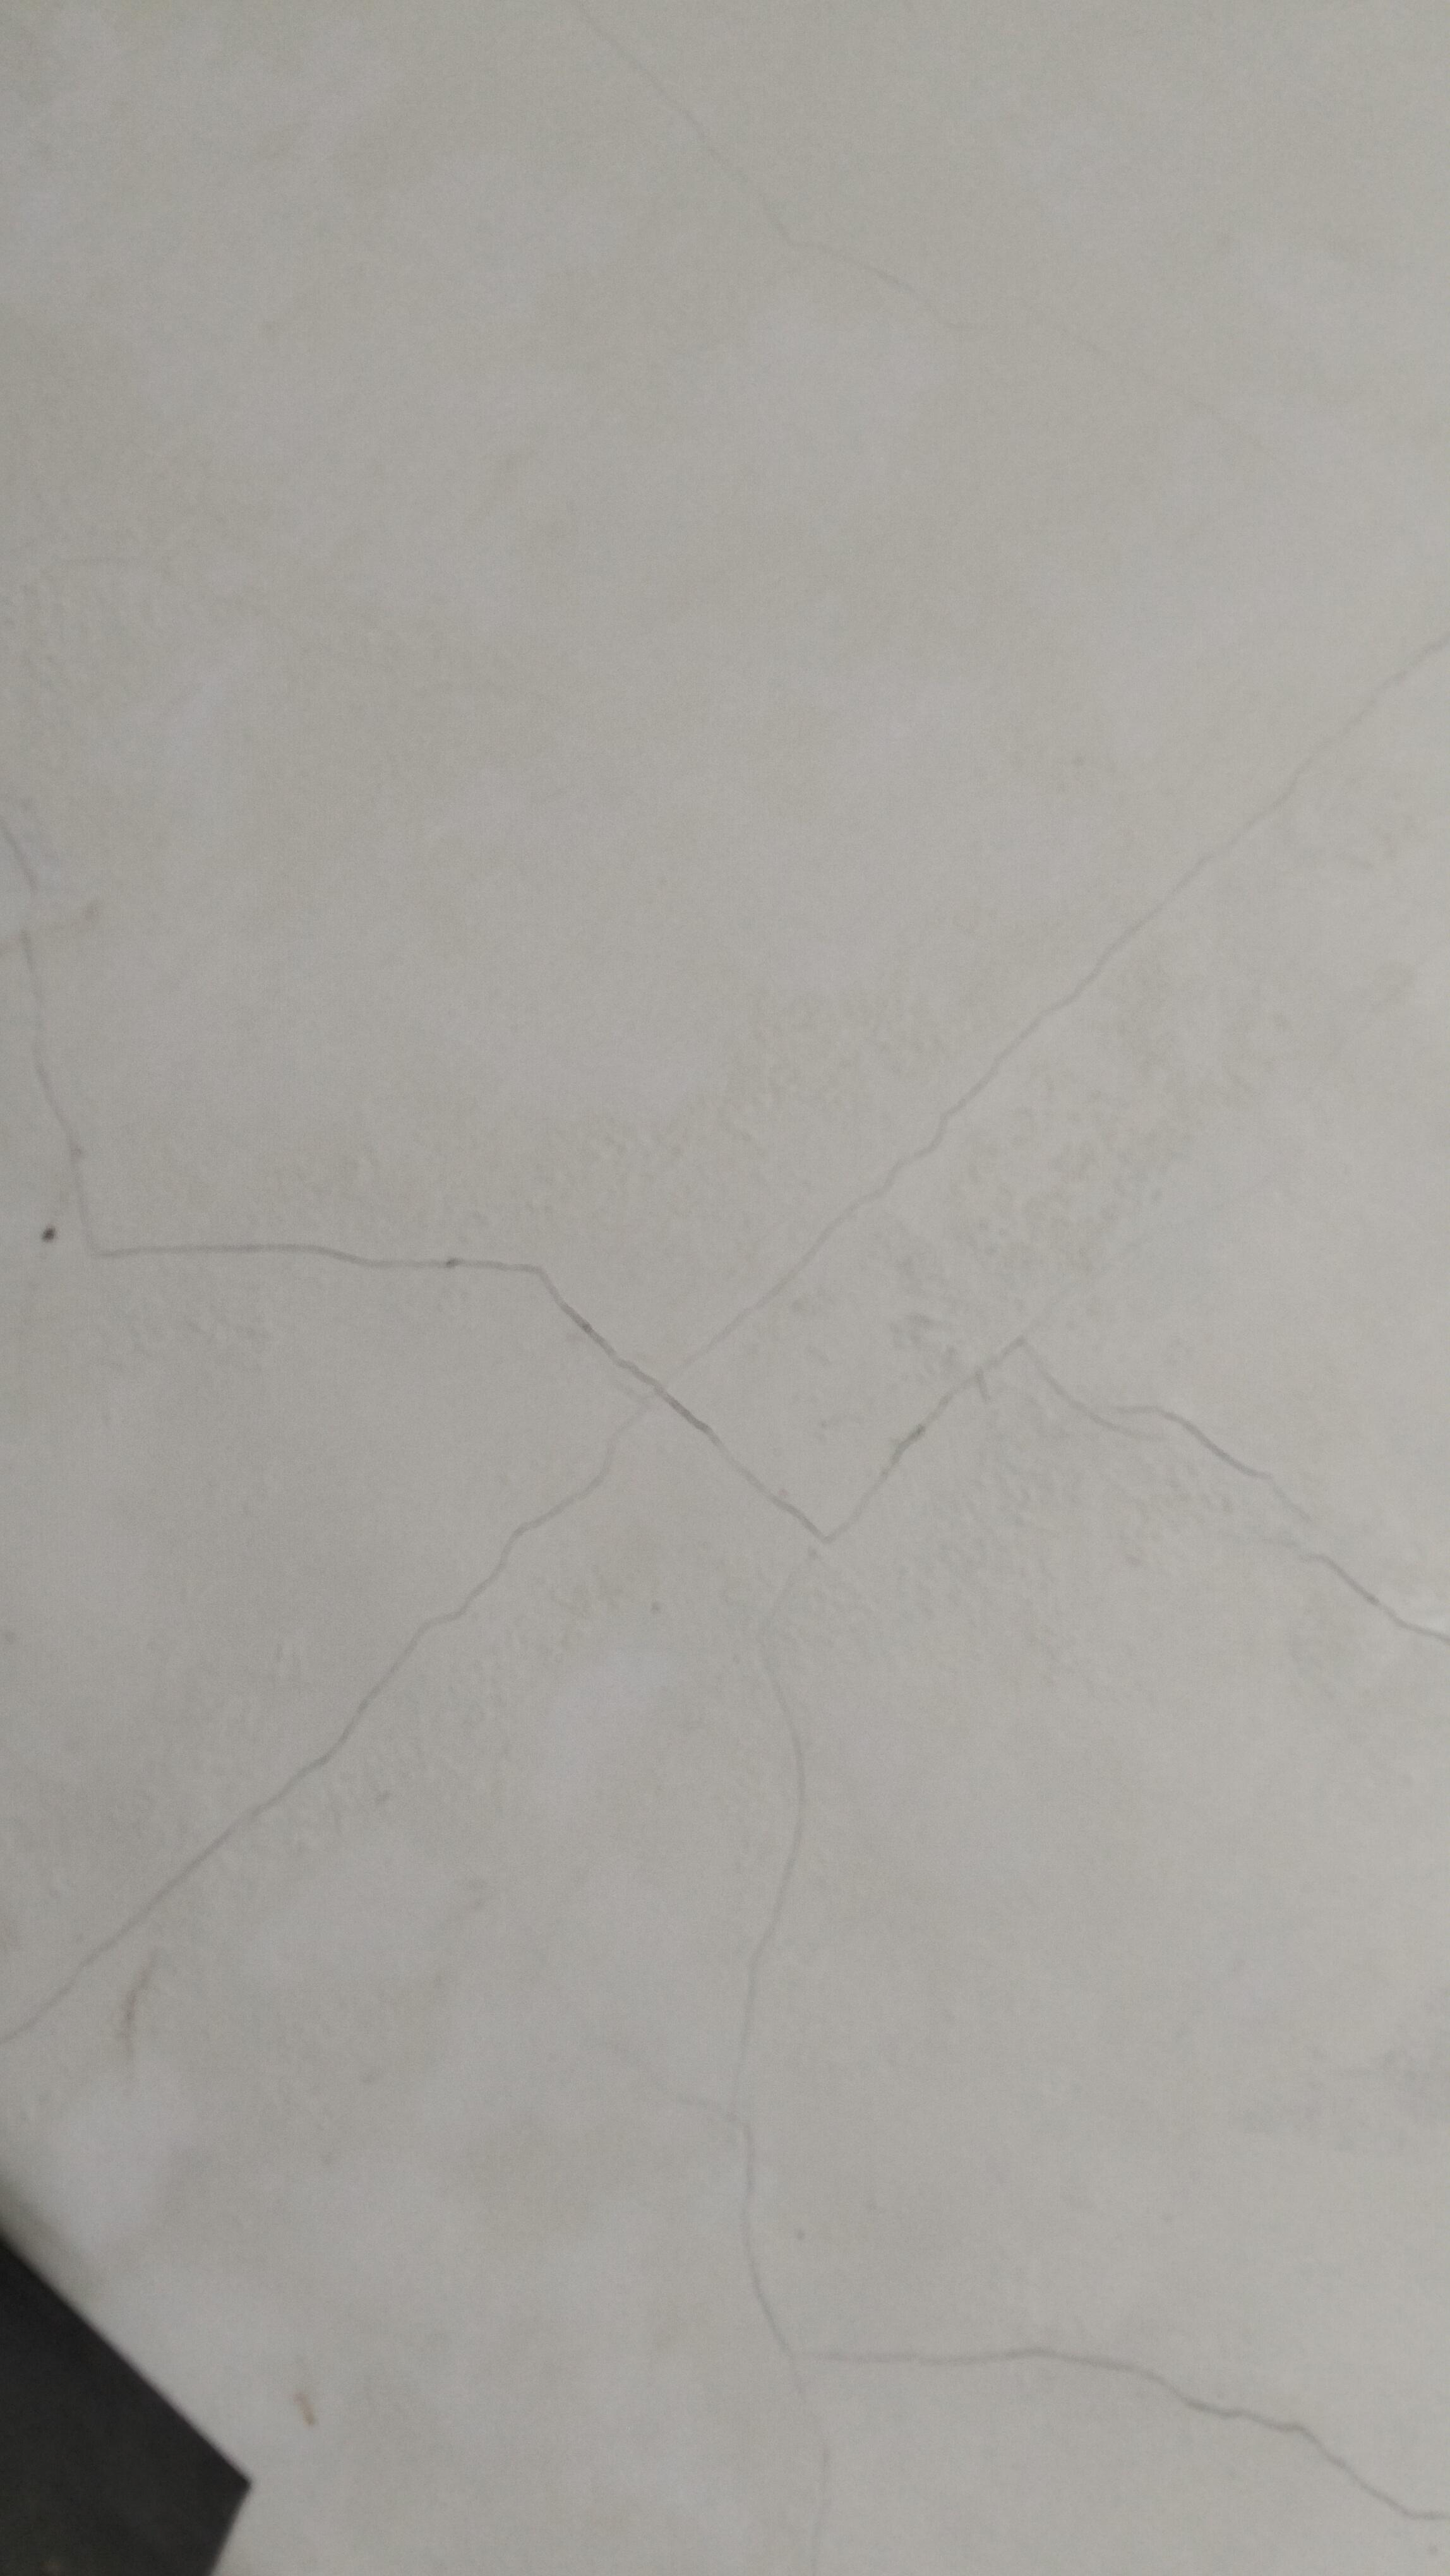Crack: (81, 1223, 671, 1403), (368, 1392, 659, 1706), (99, 1677, 400, 1943), (620, 1352, 926, 1568), (0, 814, 119, 1293), (915, 1323, 1101, 1504), (0, 1904, 119, 2061)
